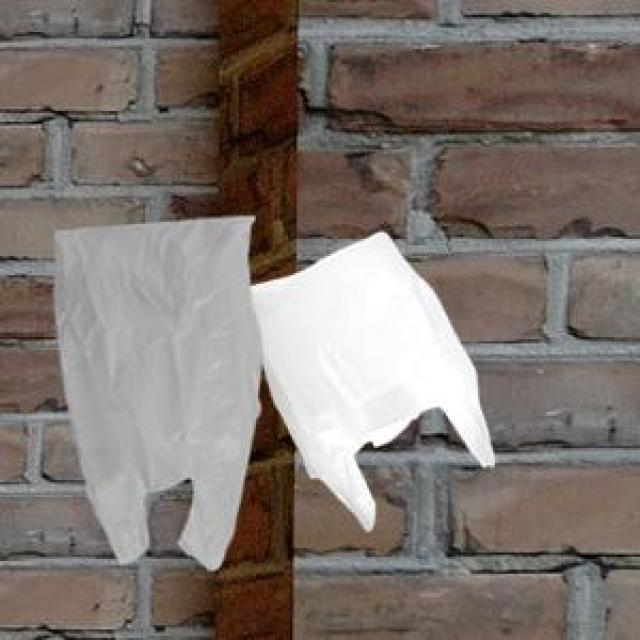plasticcover: (42, 196, 276, 592), (250, 231, 510, 528)
